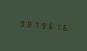eight: (24, 18, 30, 29)
nine: (17, 17, 23, 29), (38, 19, 44, 31)
one: (52, 20, 58, 32)
seven: (31, 18, 37, 30)
six: (45, 20, 51, 31), (59, 21, 65, 32)
